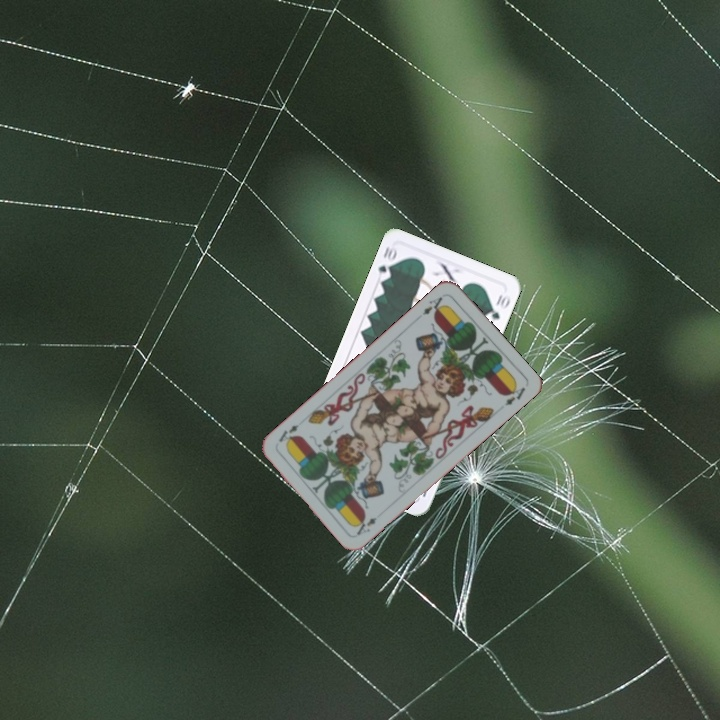EA: (418, 292, 448, 318), (351, 513, 379, 538)
G10: (374, 242, 400, 283)
